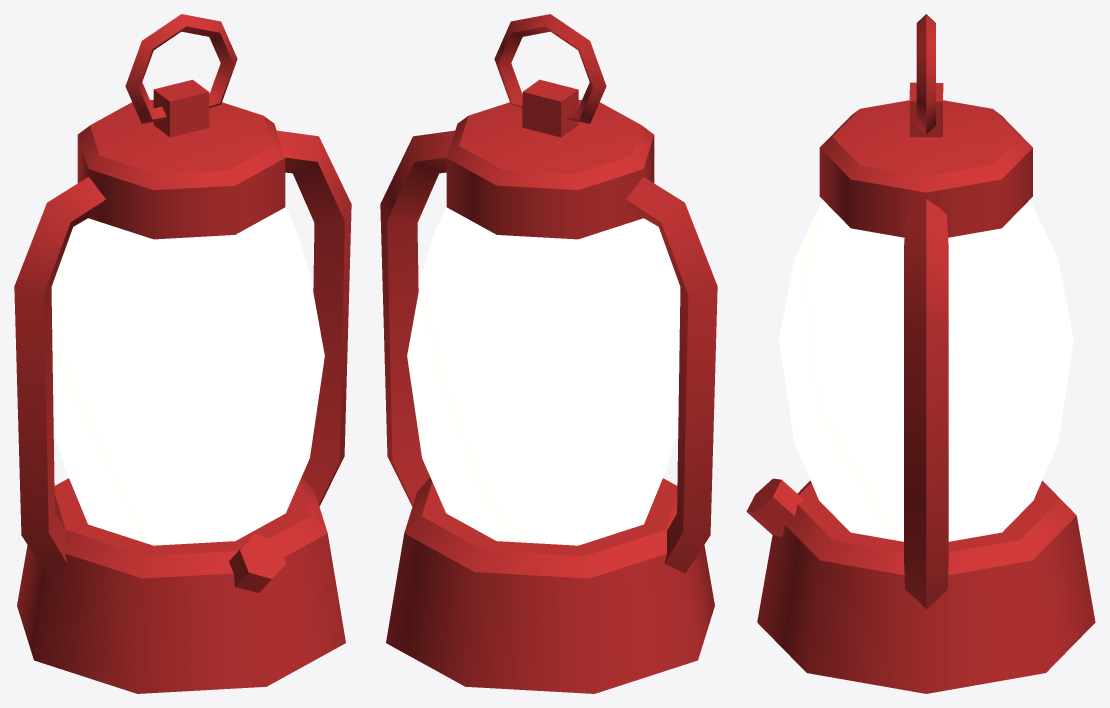
Rendered from swamp_lantern.fbx.
The picture shows the model from 3 angles, left to right: view 1: azimuth 30°, elevation 25°; view 2: azimuth 150°, elevation 25°; view 3: azimuth 270°, elevation 25°; orthographic projection.
Visible parts, largest first — view 1: Lantern; view 2: Lantern; view 3: Lantern.
Part boxes in pixels (left/top/right/bottom): Lantern: left=14, top=14, right=351, bottom=693; Lantern: left=380, top=14, right=717, bottom=693; Lantern: left=746, top=14, right=1095, bottom=693.
Size of the model in its own units: 0.2317 by 0.4007 by 0.2091.
